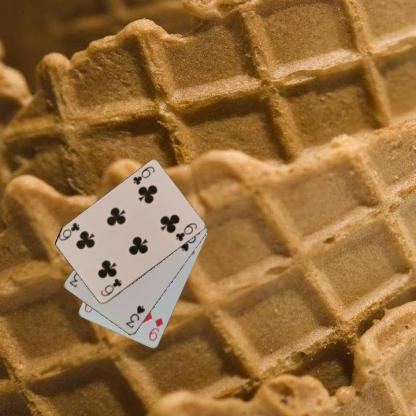3s: (123, 303, 146, 330)
6c: (130, 164, 156, 187), (98, 276, 123, 298)
9d: (146, 315, 165, 343)
